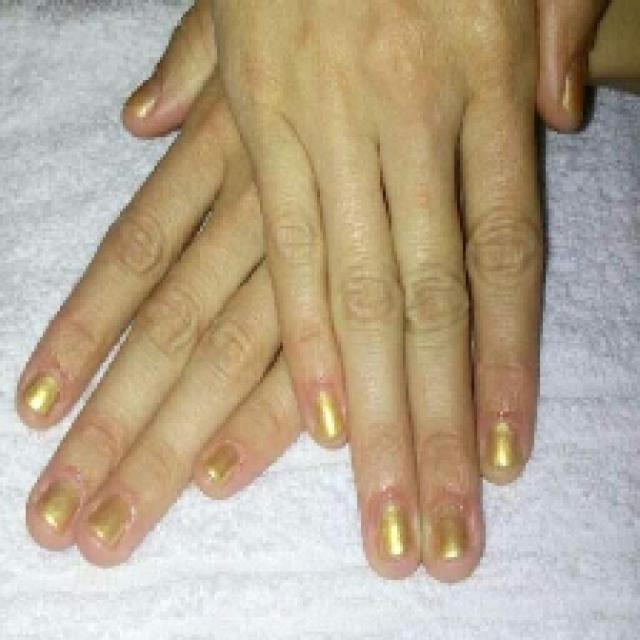Nail: (89, 495, 131, 546), (39, 480, 81, 531), (431, 504, 465, 559), (380, 500, 410, 561), (125, 76, 161, 119), (204, 444, 239, 485), (25, 374, 60, 414), (315, 390, 342, 440), (489, 420, 518, 466), (562, 71, 584, 118)
